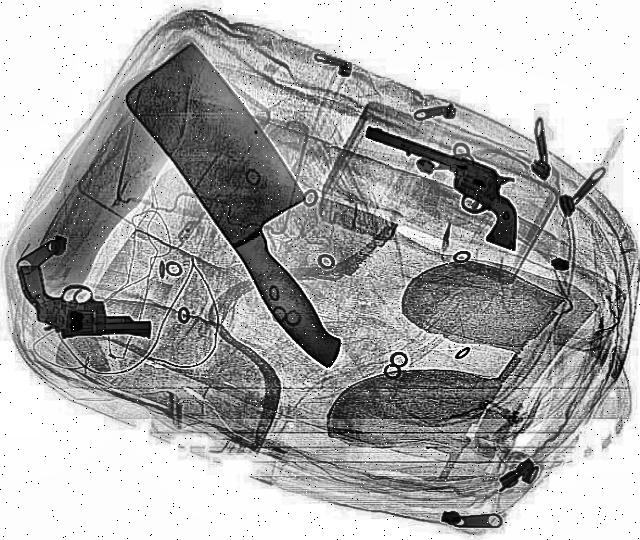Gun: (352, 100, 566, 260), (0, 236, 160, 368)
Knife: (94, 33, 416, 382)
